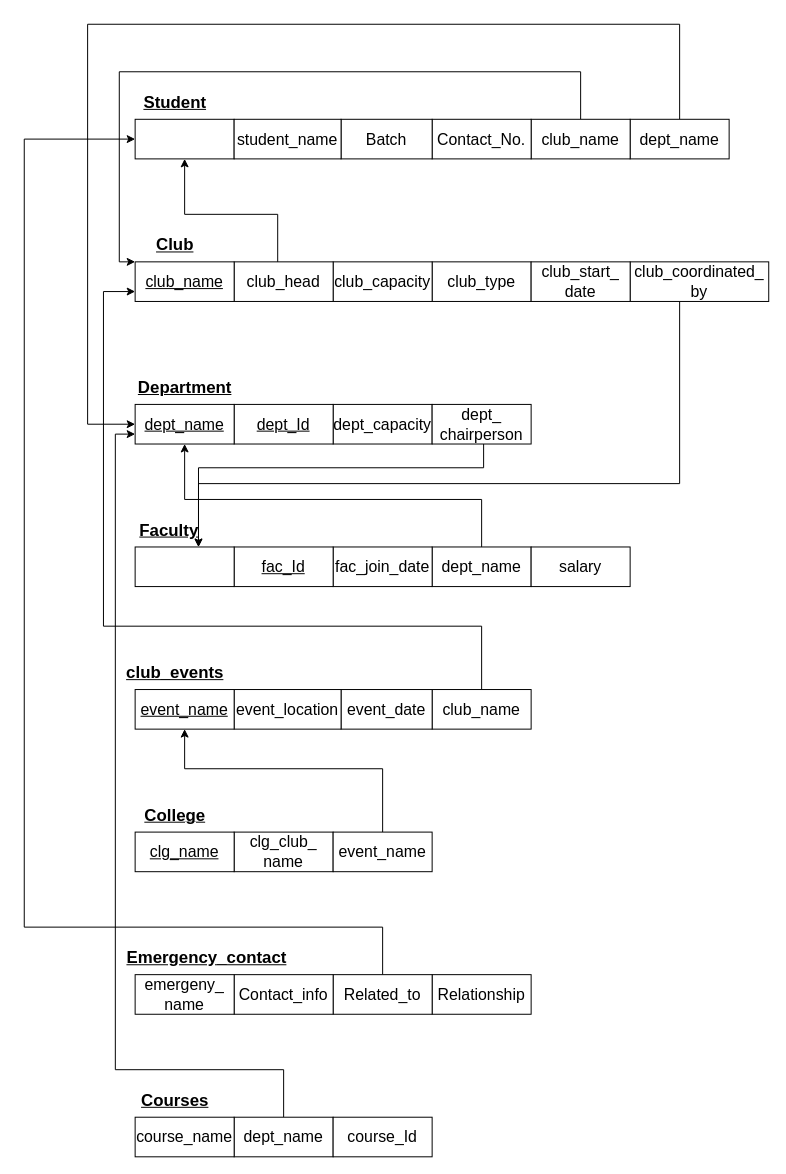
Some shapes in this 786 by 1174 pixel diagram are drawn without their labels. The shapes that lost their labels are listed below. From the top down, each one's box as (x1, y1, x2, y2) in pixels, then its label:
(134, 118, 234, 159): student_Id
(134, 546, 234, 587): fac_name
